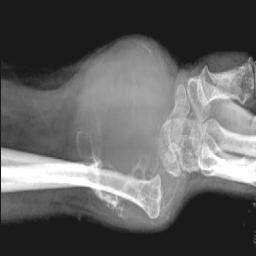cancer: (75, 41, 176, 213)
